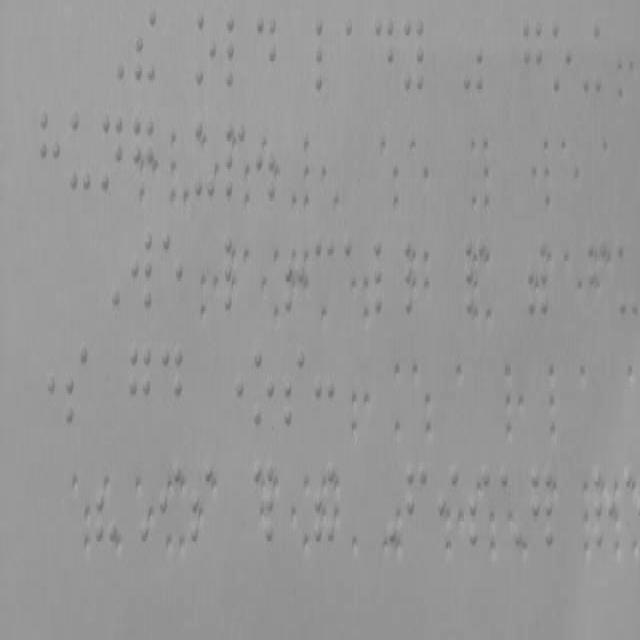braiile: (62, 334, 90, 436), (36, 101, 64, 201), (192, 5, 220, 94), (252, 11, 280, 100), (127, 342, 153, 436), (223, 11, 250, 100), (68, 108, 94, 199), (249, 346, 275, 436), (312, 11, 338, 100), (373, 11, 399, 100), (403, 460, 429, 549), (548, 15, 576, 96), (400, 10, 426, 97), (372, 234, 396, 326), (160, 341, 184, 432), (130, 227, 154, 316), (282, 342, 306, 431), (344, 12, 368, 99), (160, 227, 183, 316), (520, 15, 544, 96), (100, 114, 124, 194), (314, 234, 336, 314)
